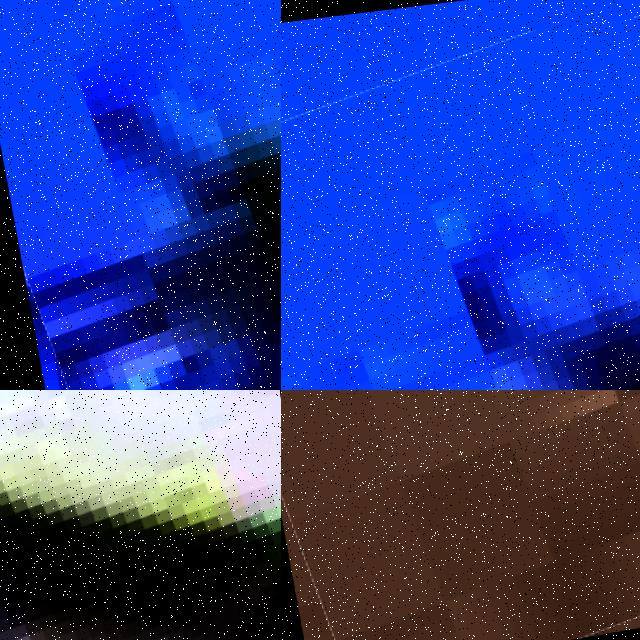0: (281, 0, 640, 390), (0, 0, 281, 390), (281, 390, 640, 640)
drone: (0, 390, 281, 640)
